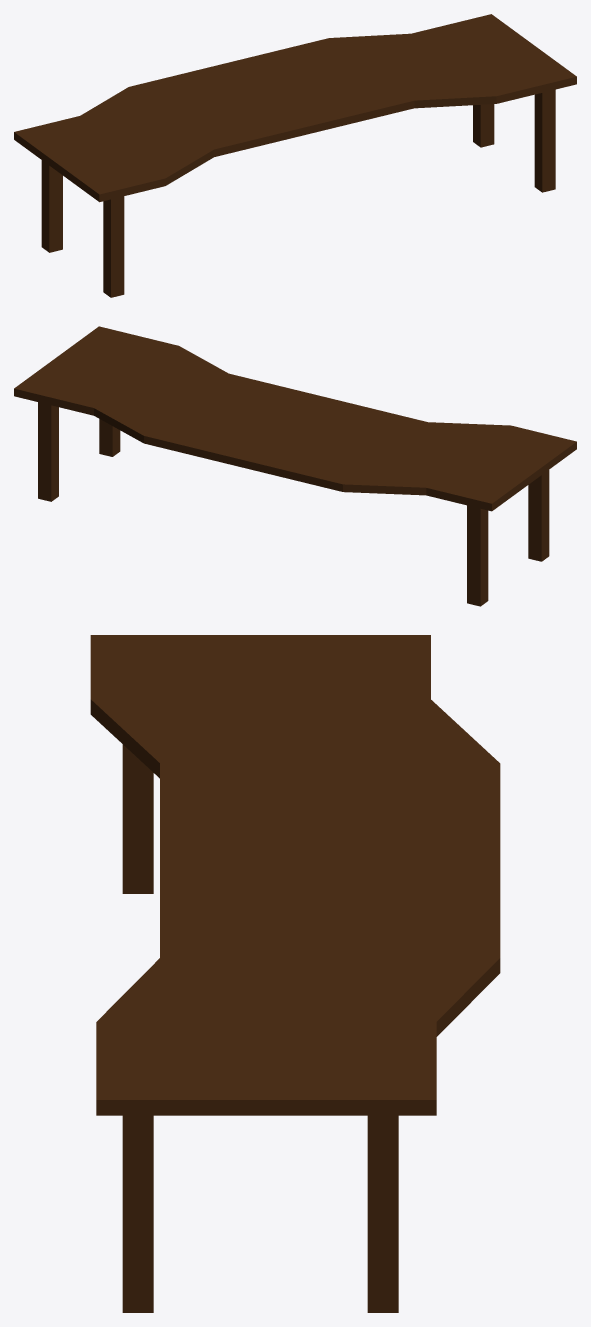
The model's file is Table.fbx.
The picture shows the model from 3 angles, top to bottom: view 1: azimuth 30°, elevation 25°; view 2: azimuth 150°, elevation 25°; view 3: azimuth 270°, elevation 25°; orthographic projection. The views are drawn at different scales.
Visible parts, largest first — view 1: Table; view 2: Table; view 3: Table.
Part boxes in pixels (x1,y1,x2,y2): Table: (14,14,576,297); Table: (14,326,576,606); Table: (90,635,500,1312).
Size of the model in its own units: 9.18 by 2.09 by 3.42.
